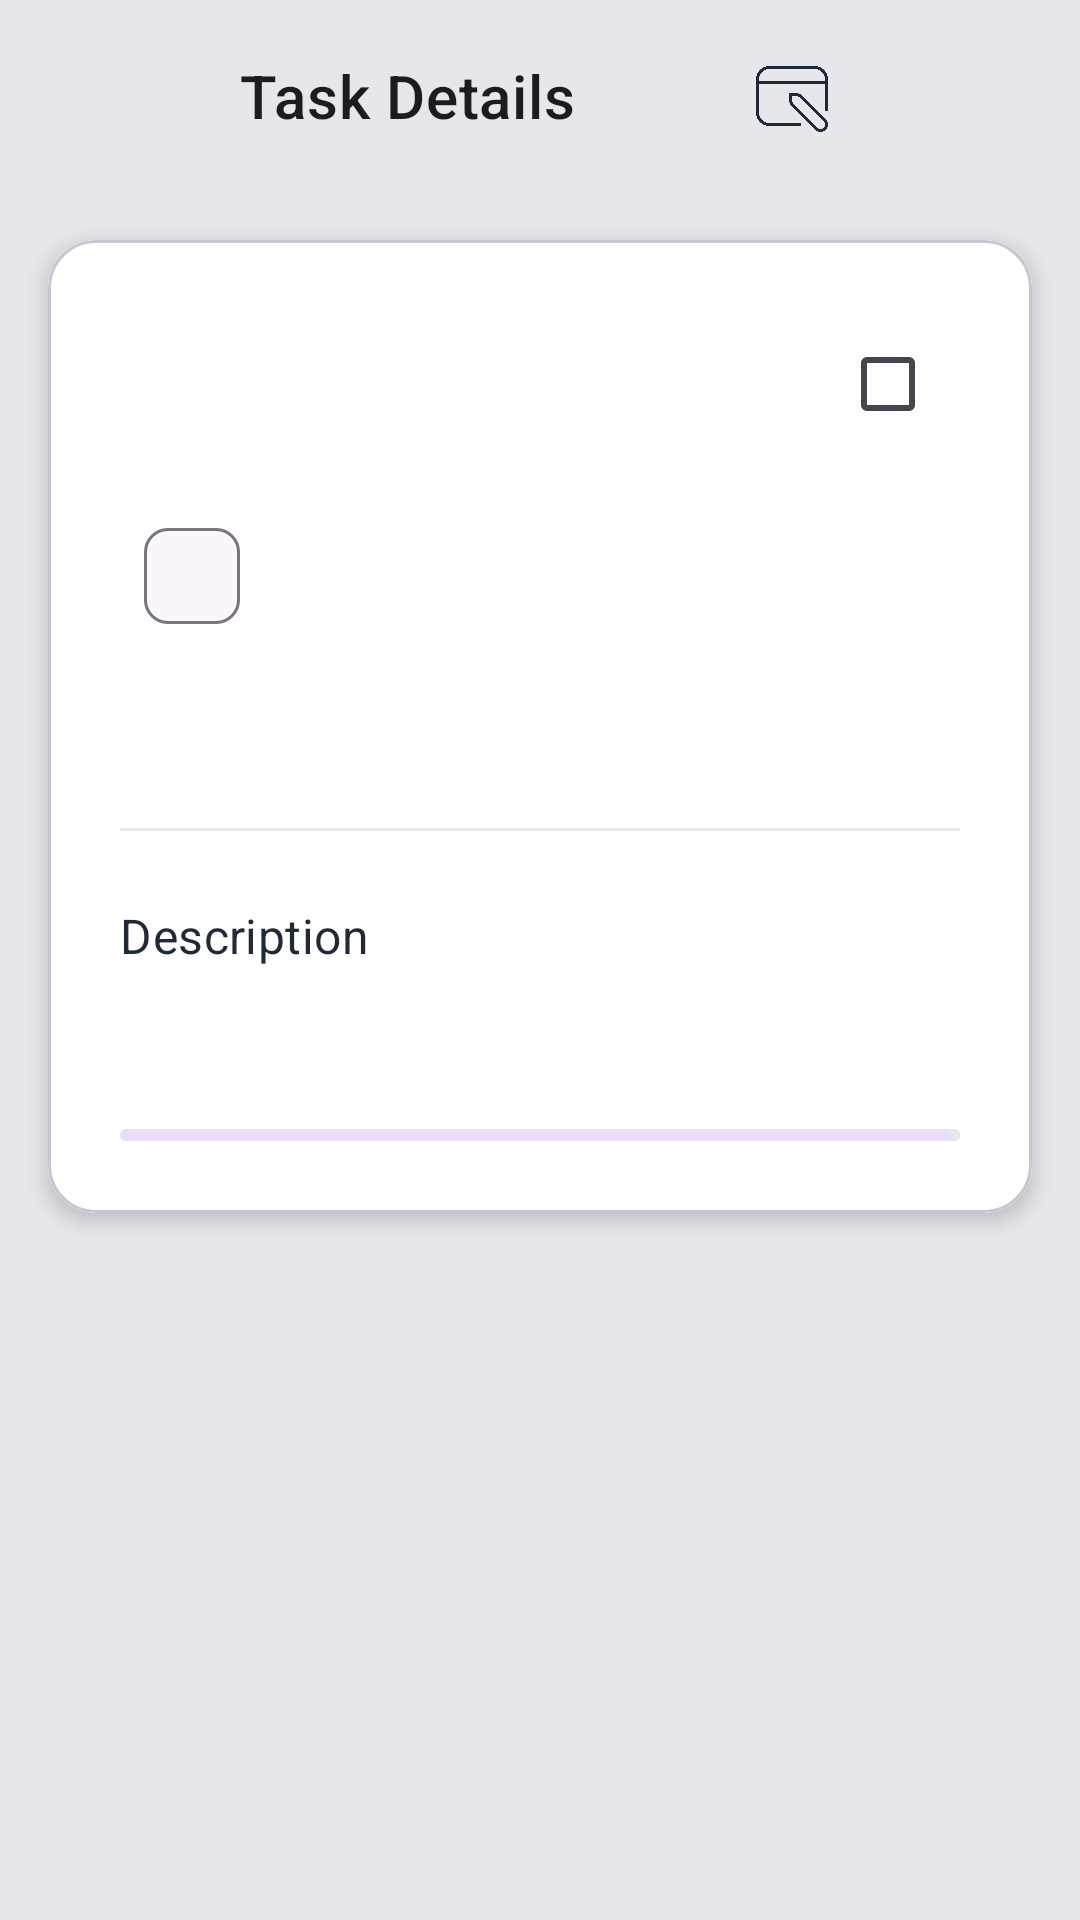

Screen size 1080w x 1920h. Icon name, then its center in pixels as point (x, y):
edit: point (792, 99)
